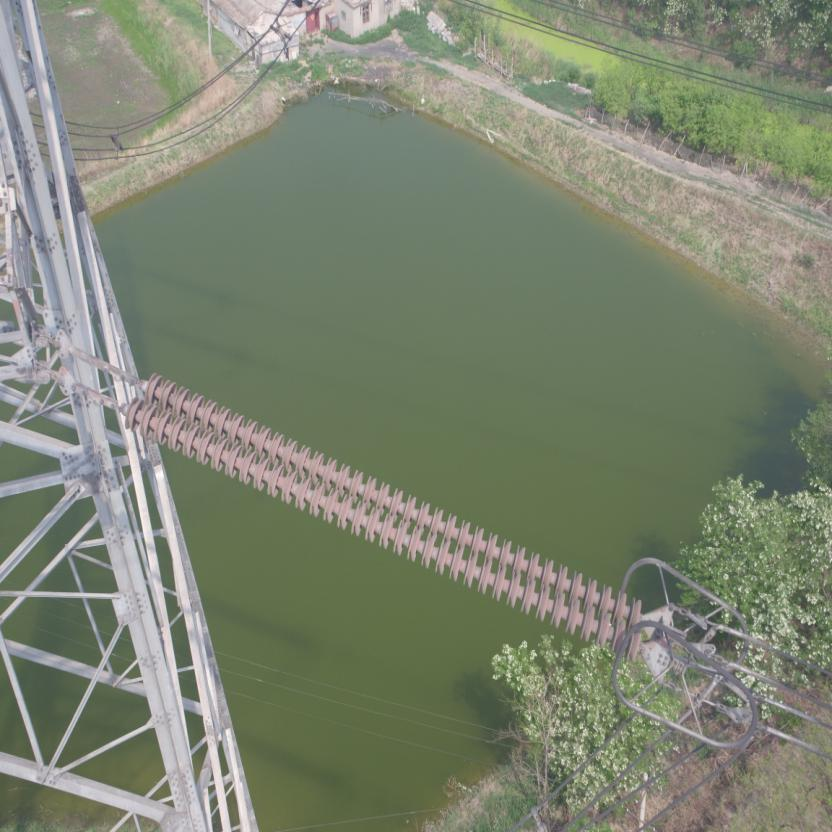insulator: (88, 359, 654, 670)
